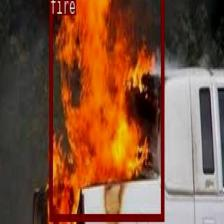fire: (48, 0, 162, 220)
